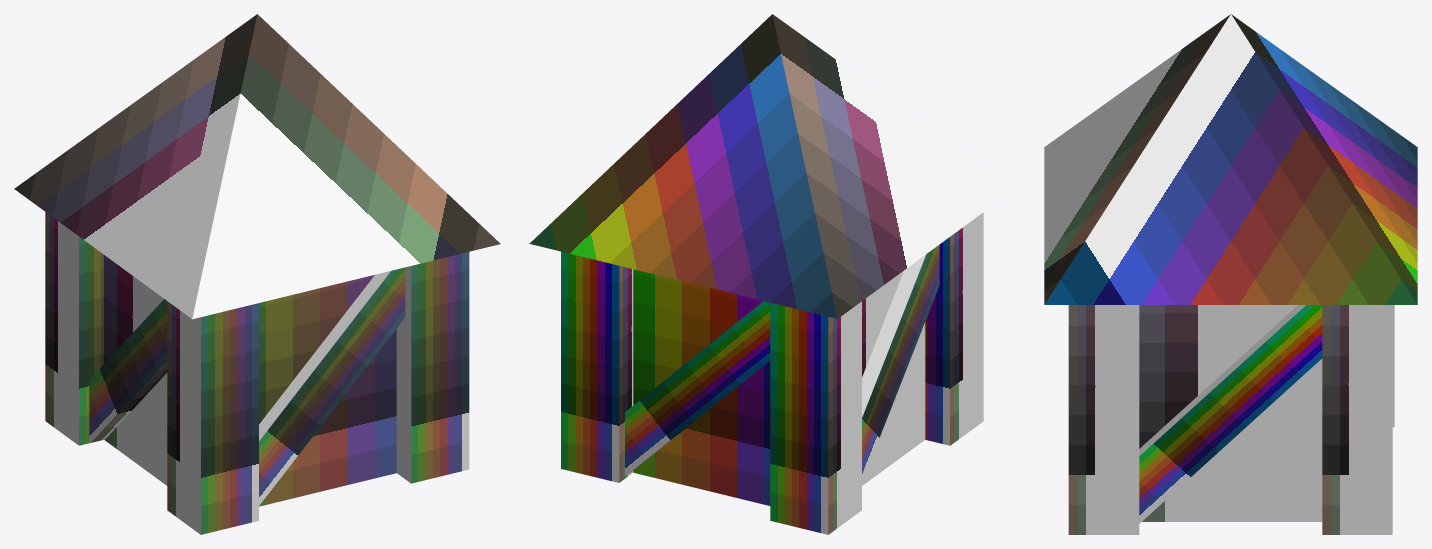
File: TestHouse.fbx
3 views of the same model, side by side, from view 1: azimuth 30°, elevation 25°; view 2: azimuth 150°, elevation 25°; view 3: azimuth 270°, elevation 25° (orthographic). The views are drawn at different scales.
Visible parts, largest first — view 1: Cone; view 2: Cone; view 3: Cone.
Part boxes in pixels (<box>): Cone: <box>14,14,500,534</box>; Cone: <box>529,14,1015,534</box>; Cone: <box>1044,14,1417,534</box>.
Size of the model in its own units: 106 by 142 by 106.
